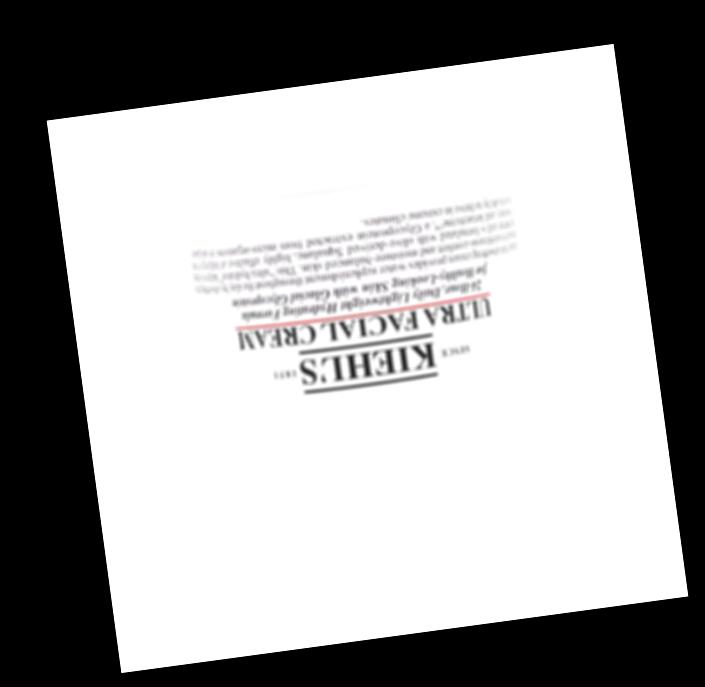cosmetic: (181, 163, 553, 486)
